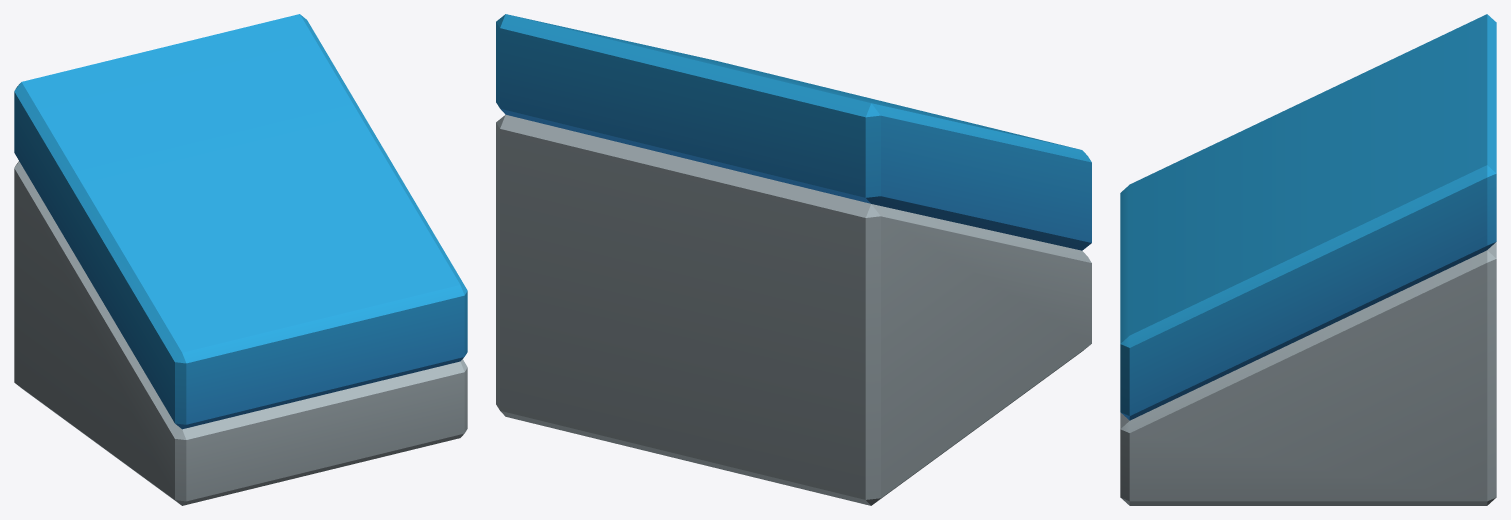
Rendered from platform_slope_2x2x2_blue.glb.
3 views of the same model, side by side, from view 1: azimuth 30°, elevation 25°; view 2: azimuth 150°, elevation 25°; view 3: azimuth 270°, elevation 25° (orthographic). The views are drawn at different scales.
Visible parts, largest first — view 1: platform_slope_2x2x2_blue; view 2: platform_slope_2x2x2_blue; view 3: platform_slope_2x2x2_blue.
Boxes of the visible parts, <box> form: platform_slope_2x2x2_blue: <box>14,14,467,505</box>; platform_slope_2x2x2_blue: <box>496,14,1091,505</box>; platform_slope_2x2x2_blue: <box>1120,14,1496,505</box>.
Size of the model in its own units: 2 by 2 by 2.
Materials: 1 (1 with a texture image).
